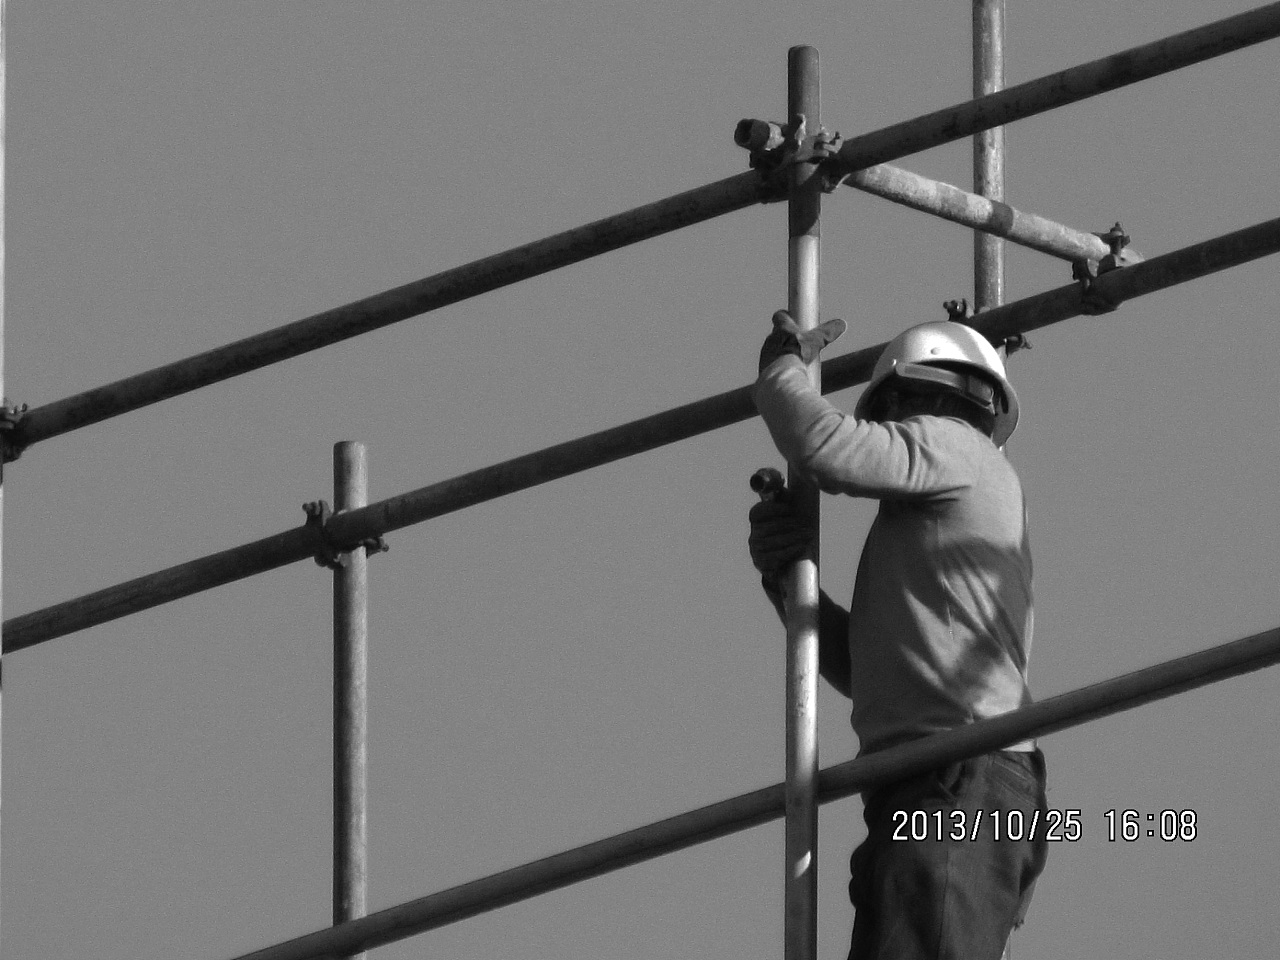safetyhat: (737, 243, 1106, 903)
